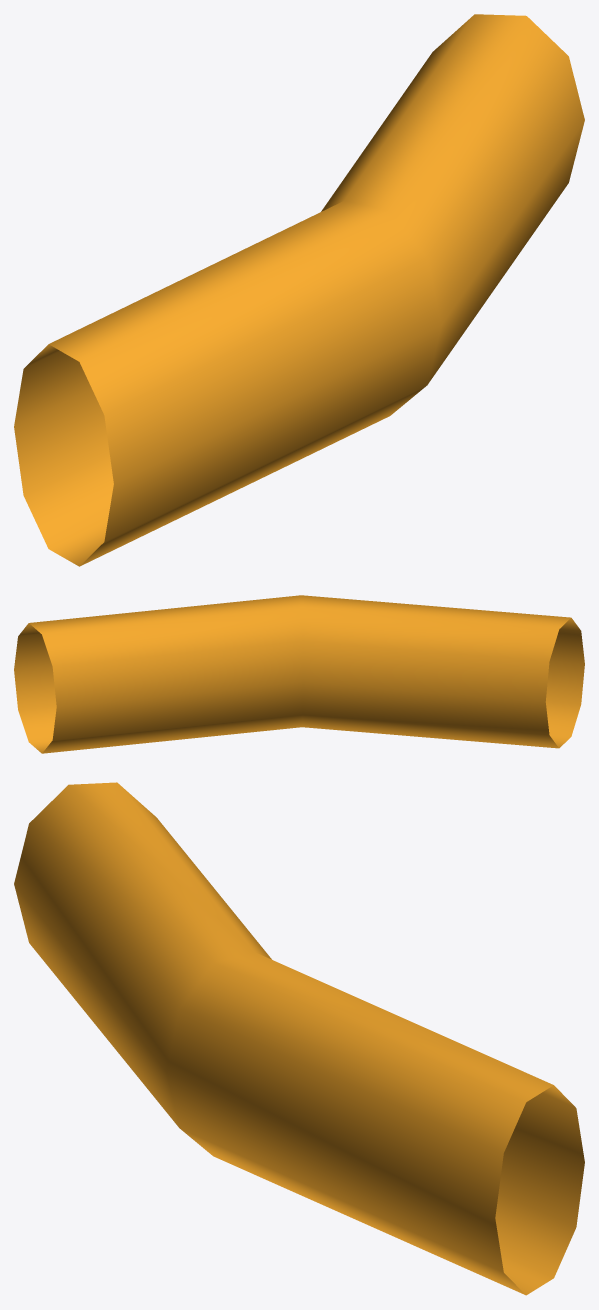
The model's file is TorusChunk_7_7.obj.
3 views of the same model, one above another, from view 1: azimuth 30°, elevation 25°; view 2: azimuth 150°, elevation 25°; view 3: azimuth 270°, elevation 25° (orthographic). The views are drawn at different scales.
Parts seen in each view (by area): view 1: TorusChunk_7_7; view 2: TorusChunk_7_7; view 3: TorusChunk_7_7.
Part boxes in pixels (x1,y1,x2,y2): TorusChunk_7_7: [14, 14, 584, 566]; TorusChunk_7_7: [14, 595, 584, 753]; TorusChunk_7_7: [14, 782, 584, 1295].
Bounding box in the file's own units: 1.02 × 0.27 × 0.7232.
